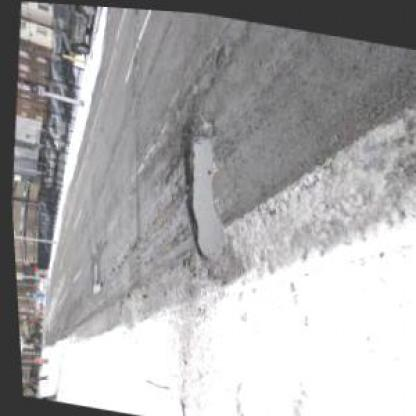pothole: (165, 110, 232, 260)
